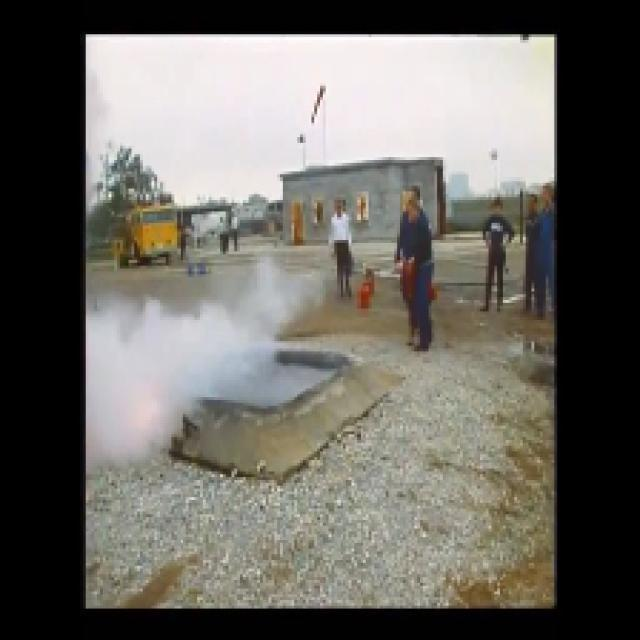Smoke: (83, 302, 243, 478)
